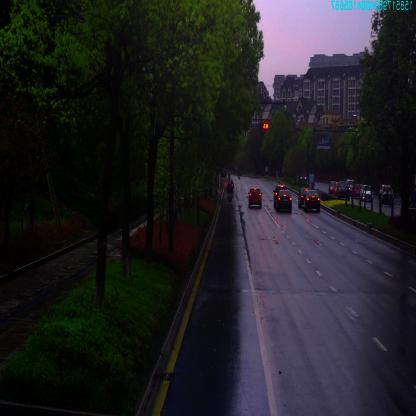traffic-light: (260, 120, 268, 130)
